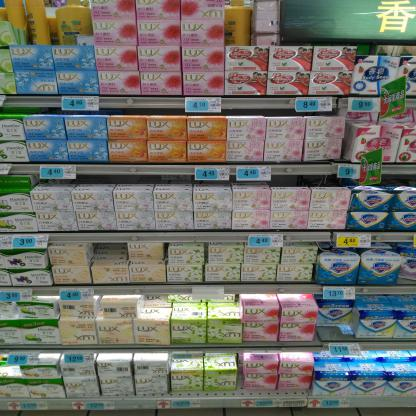Void: (278, 175, 334, 187), (96, 244, 126, 259)
